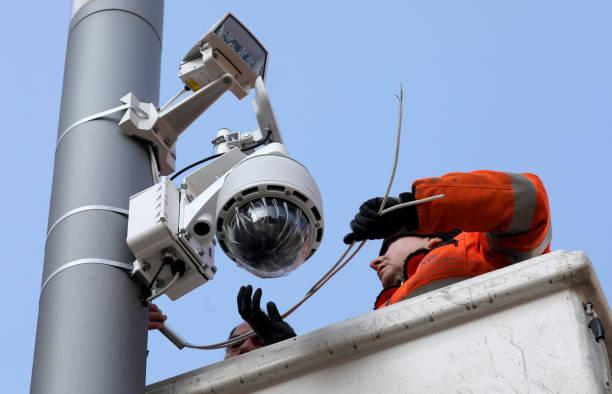camera: (205, 127, 337, 281)
